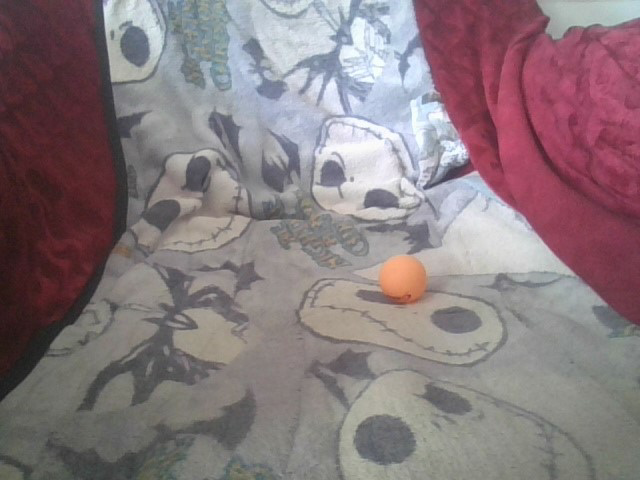ball: (378, 254, 429, 306)
